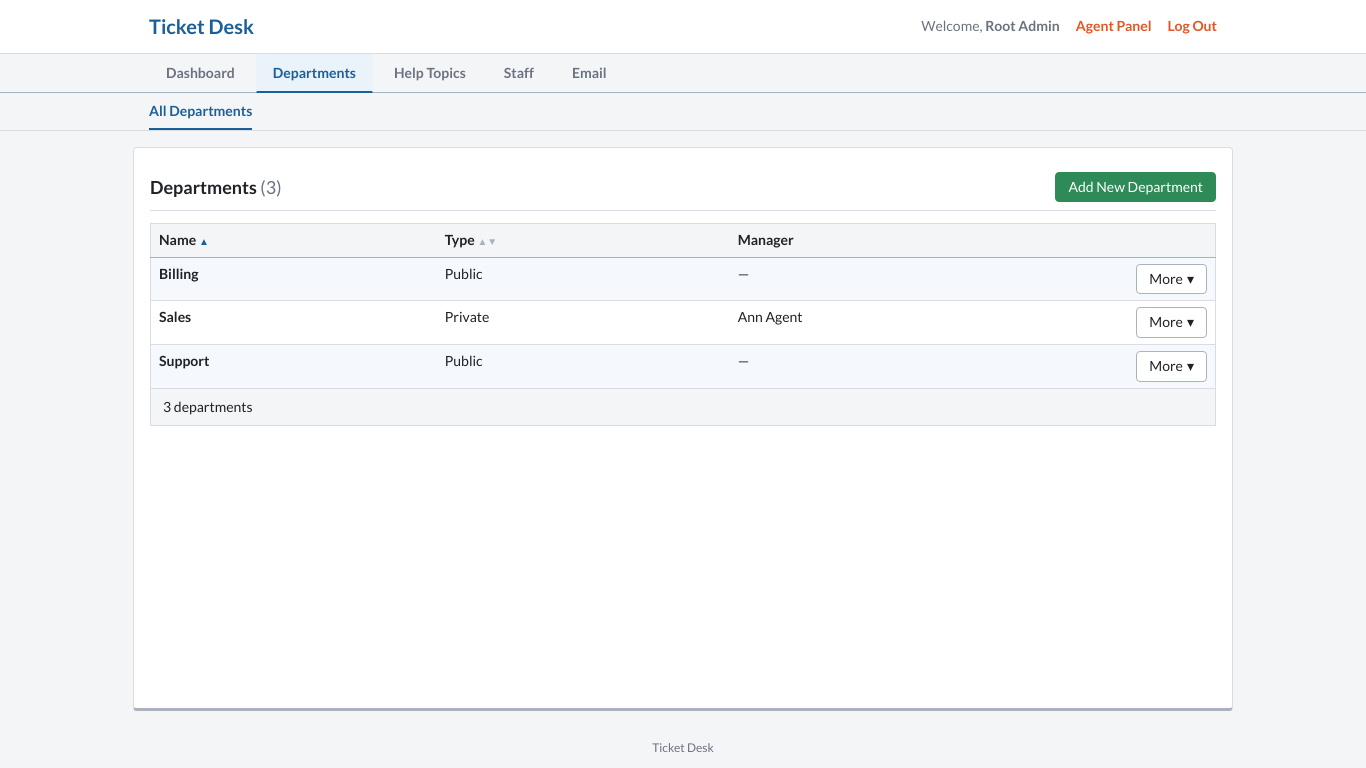
Test case: as admin › 409 on delete shows the message and keeps the row
Expected: the link "Support" is shown, [159,352,209,369]
Click the button "More ▾" in the row of "Support".
click(1172, 367)  # box [1136,351,1207,382]
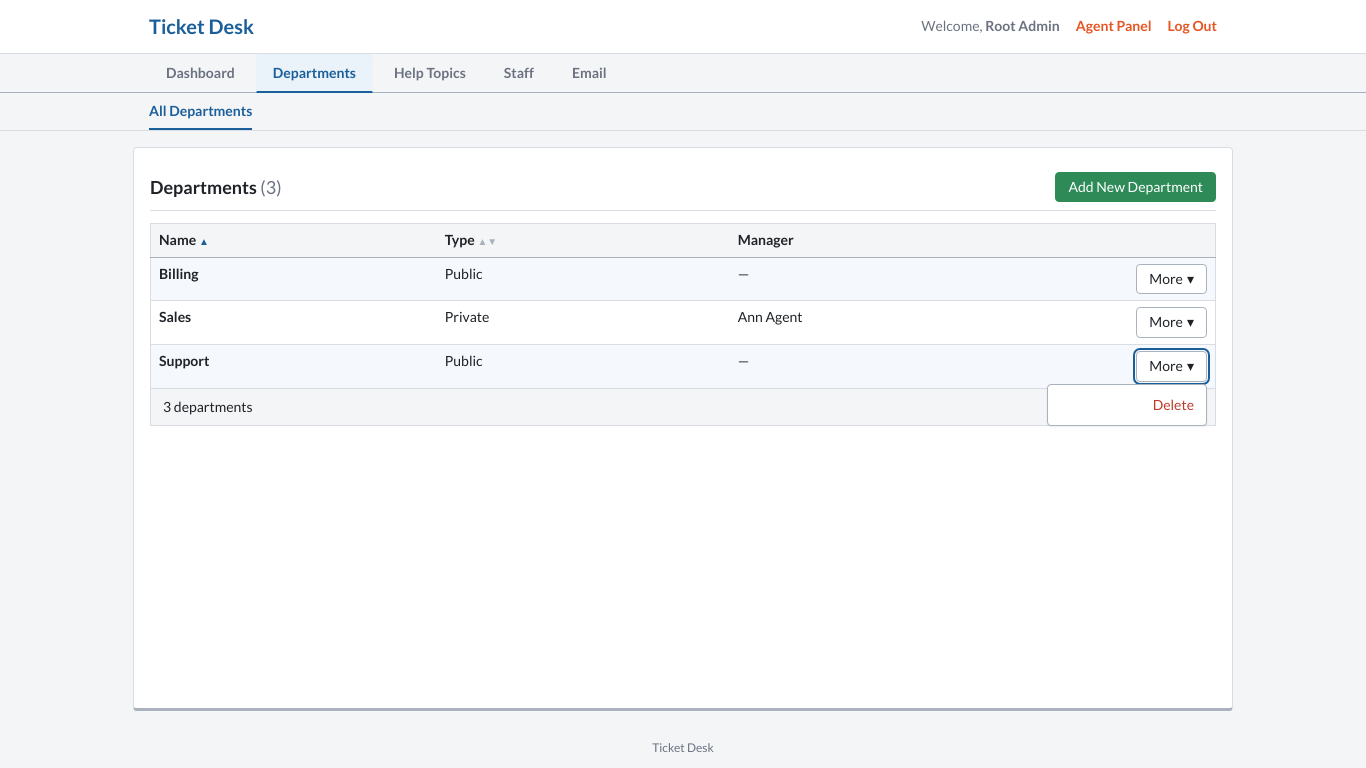
Click the menu item "Delete".
click(1173, 405)  # box [1153,396,1194,413]
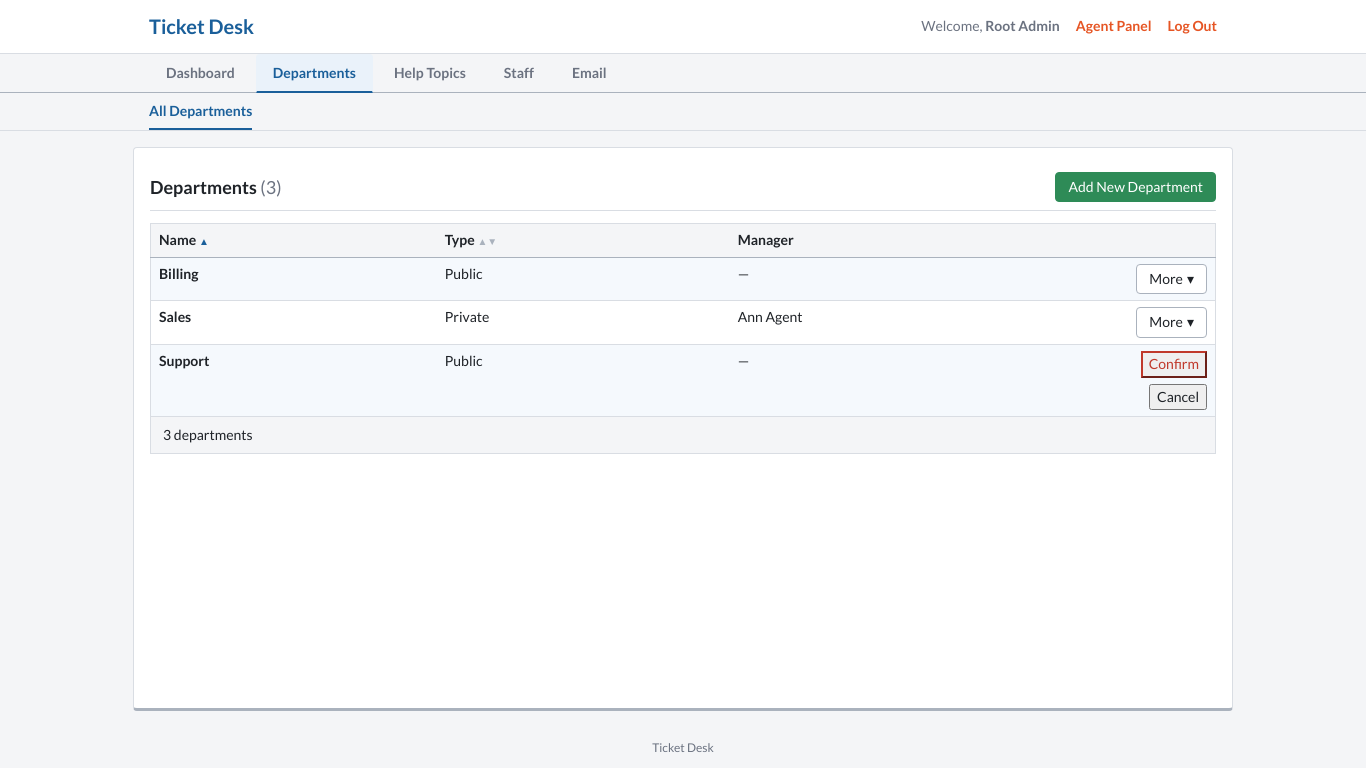
Click the button with aria-label "Confirm delete Support".
click(1174, 364)  # box [1141,351,1207,378]
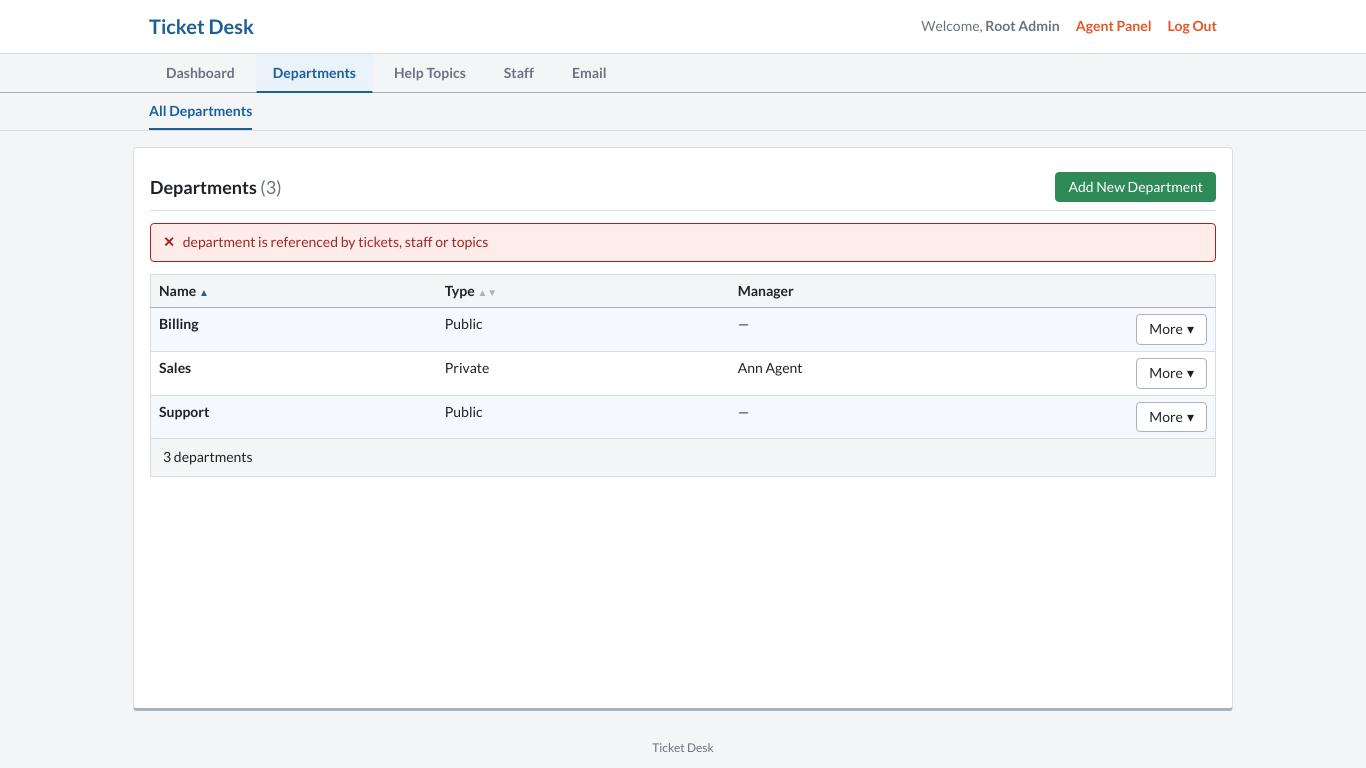
Expected: the link "Support" is shown, [159,403,209,420]
Expected: the message shows "department is referenced by tickets, staff or topics", [183,233,488,250]
Expected: the button "More ▾" in the row of "Support" is shown, [1136,402,1207,432]
